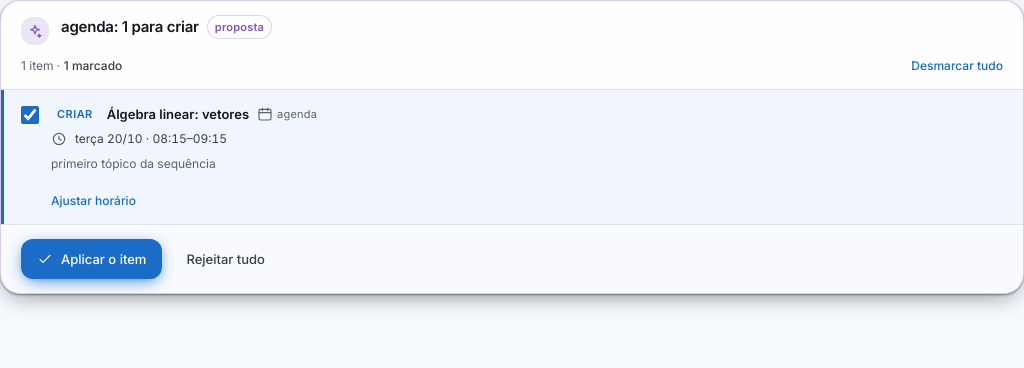
Test: ajuste de horário por item › abre os campos com os valores atuais do item
The width and height of the screenshot is (1024, 368).
Click the button "Ajustar horário": (93, 200) [51,192,136,210]
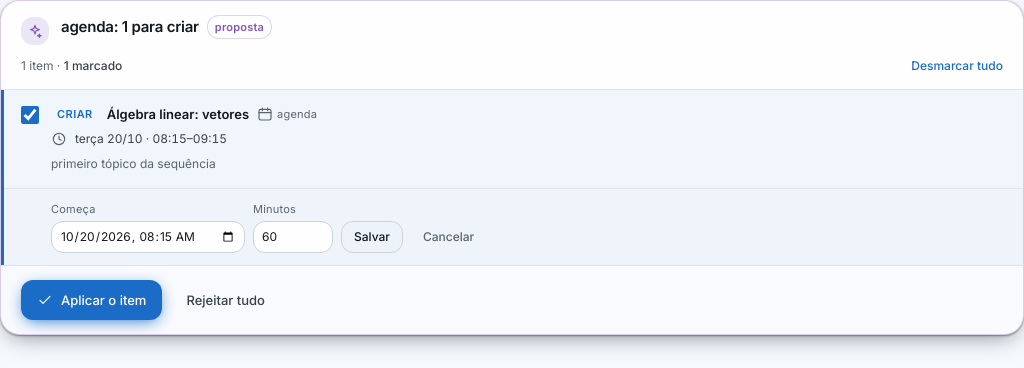
Expected: the field labelled "Começa" holds "2026-10-20T08:15", [51,220,245,252]
Expected: the number field labelled "Minutos" holds "60", [253,220,333,252]
